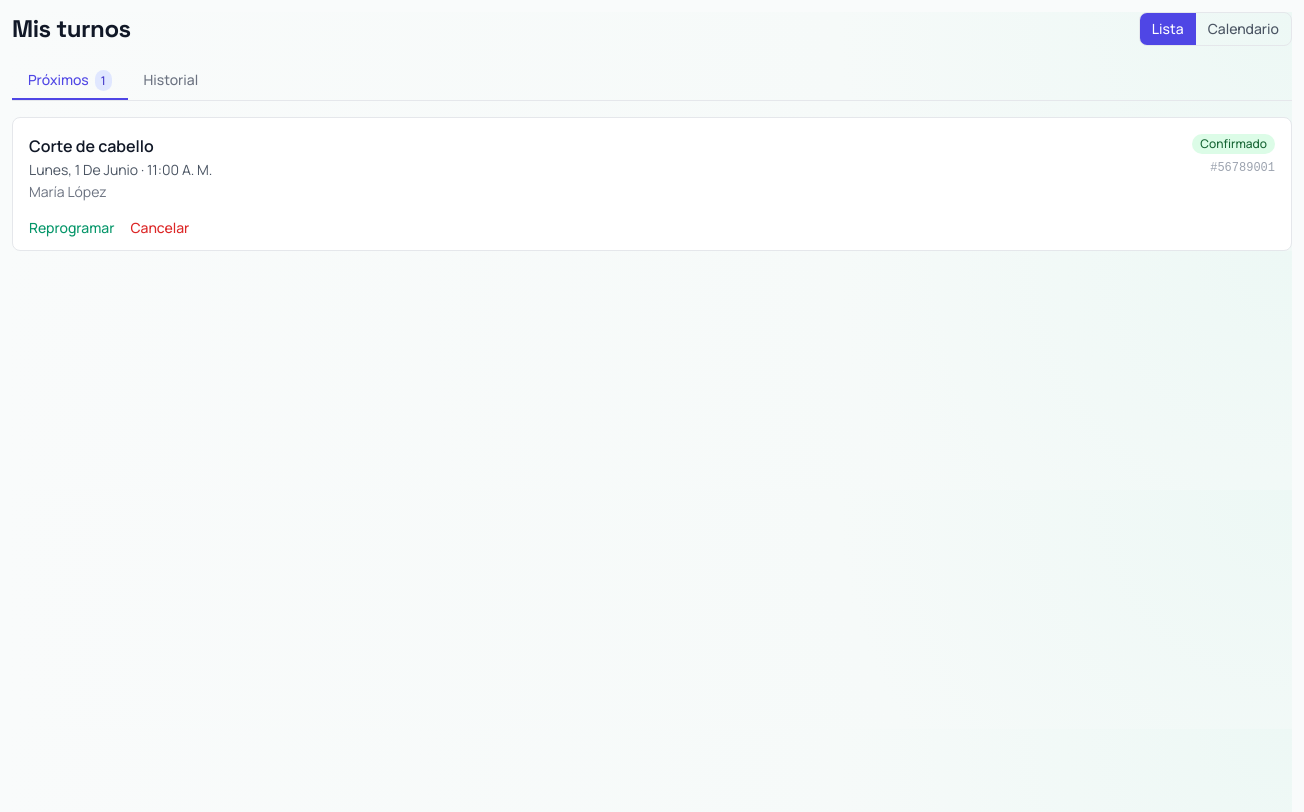
Test: AppointmentsPage › empty states › shows Spanish empty state on Historial tab when no past appointments
Click the button "Historial". click: (171, 81)
box: left=128, top=62, right=214, bottom=100
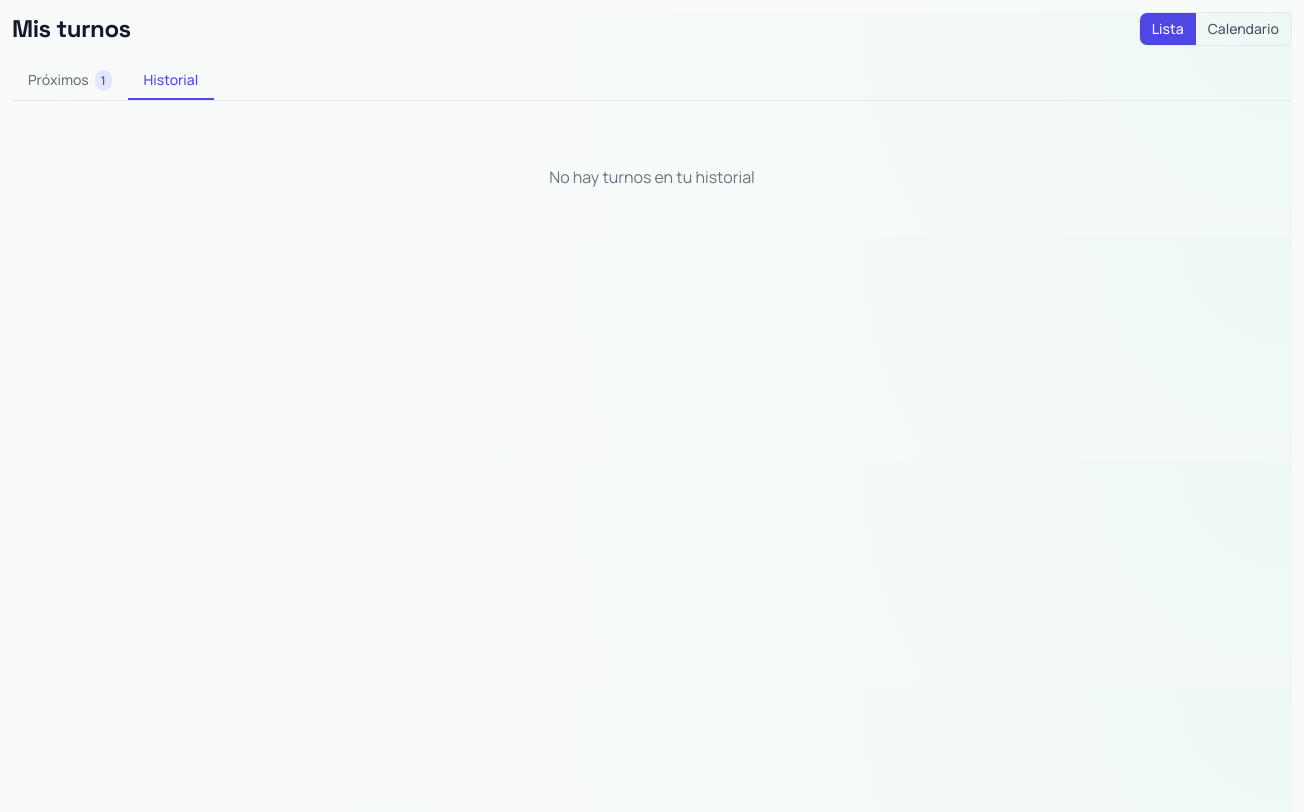
Expected: the text "No hay turnos en tu historial" is shown, left=549, top=166, right=755, bottom=188
